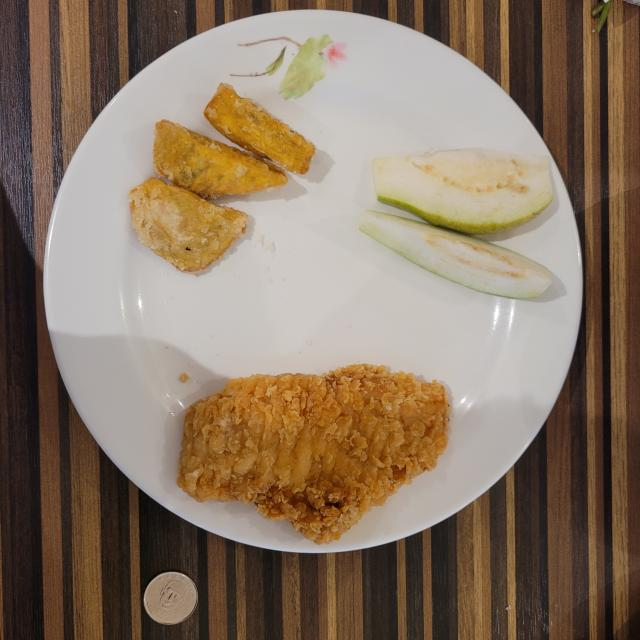coin: (144, 571, 198, 625)
fried chicken cutlet: (178, 364, 450, 544)
fried potato: (129, 84, 315, 272)
guava -sliced-: (359, 149, 552, 299)
